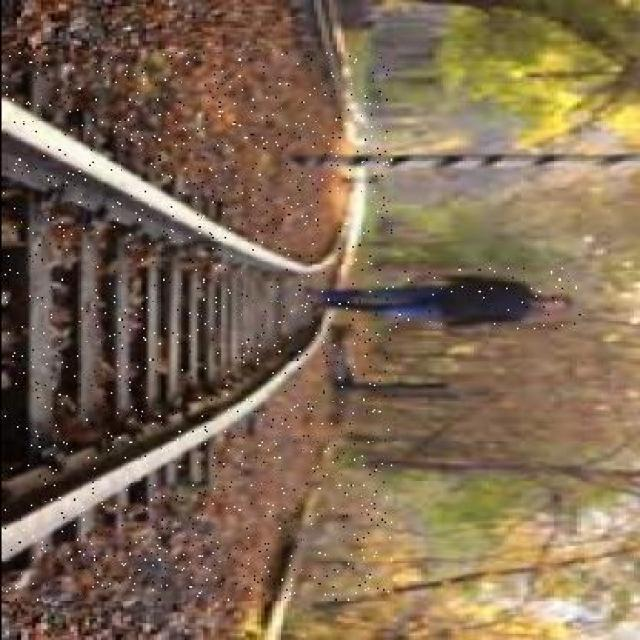danger: (310, 265, 581, 330)
rail: (2, 53, 390, 600)
